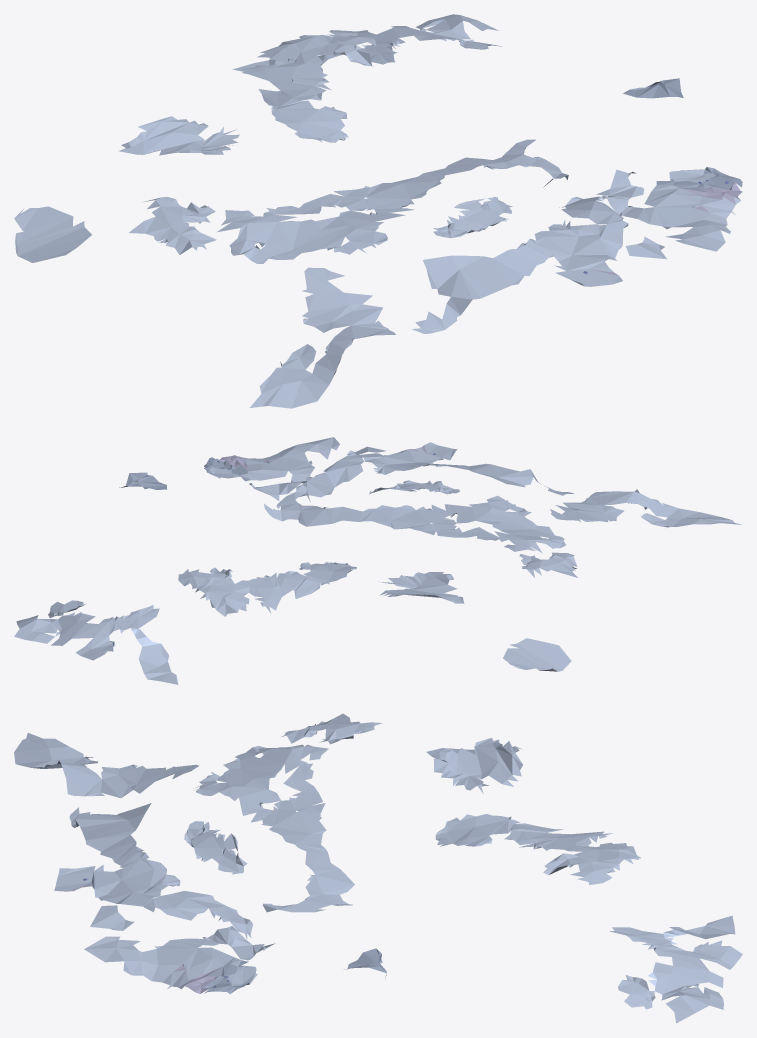
The model's file is C-landing-navmesh.fbx.
3 views of the same model, one above another, from view 1: azimuth 30°, elevation 25°; view 2: azimuth 150°, elevation 25°; view 3: azimuth 270°, elevation 25° (orthographic). The views are drawn at different scales.
Parts seen in each view (by area): view 1: nav_mesh; view 2: nav_mesh; view 3: nav_mesh.
Part boxes in pixels (<box>): nav_mesh: <box>14,14,742,408</box>; nav_mesh: <box>14,437,741,684</box>; nav_mesh: <box>14,713,742,1023</box>.
Size of the model in its own units: 160 by 174 by 20.38.
